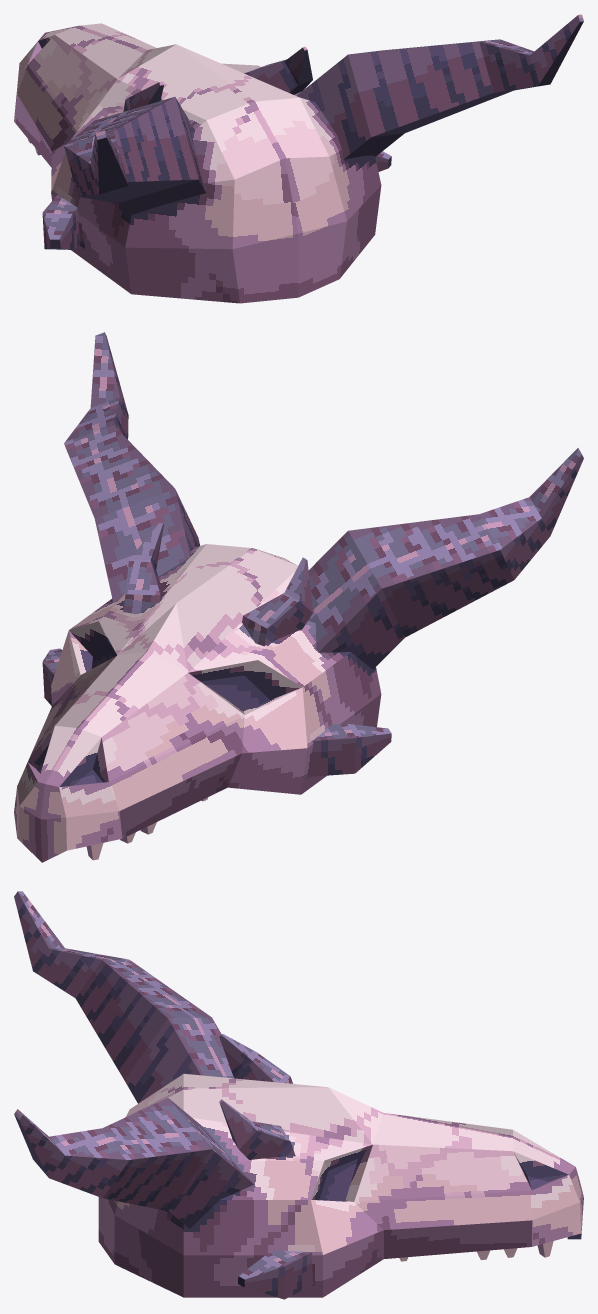
File: Skull of dragon.gltf
3 views of the same model, one above another, from view 1: azimuth 30°, elevation 25°; view 2: azimuth 150°, elevation 25°; view 3: azimuth 270°, elevation 25° (orthographic). The views are drawn at different scales.
Visible parts, largest first — view 1: Head, Big horn2, Big horn1, Horn3, Horn2, Horn1; view 2: Head, Big horn1, Big horn2, Horn3, Horn1, Horn2; view 3: Head, Big horn1, Big horn2, Horn4, Horn2, Horn1.
Part boxes in pixels (left/top/right/bottom): Head: left=14, top=23, right=381, bottom=303; Big horn2: left=297, top=14, right=583, bottom=159; Big horn1: left=64, top=97, right=206, bottom=218; Horn3: left=42, top=195, right=80, bottom=249; Horn2: left=244, top=46, right=312, bottom=94; Horn1: left=123, top=81, right=163, bottom=111; Head: left=14, top=544, right=381, bottom=862; Big horn1: left=308, top=448, right=583, bottom=669; Big horn2: left=64, top=332, right=199, bottom=602; Horn3: left=308, top=723, right=391, bottom=776; Horn1: left=242, top=557, right=312, bottom=646; Horn2: left=123, top=523, right=163, bottom=613; Head: left=98, top=1073, right=583, bottom=1297; Big horn1: left=14, top=891, right=233, bottom=1103; Big horn2: left=14, top=1098, right=253, bottom=1228; Horn4: left=238, top=1250, right=313, bottom=1299; Horn2: left=219, top=1099, right=295, bottom=1159; Horn1: left=219, top=1034, right=292, bottom=1083.
Size of the model in its own units: 2.45 by 1.23 by 2.63.
1 material, 1 textured.
